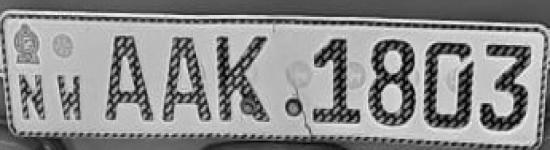0: (422, 34, 477, 136)
1: (309, 32, 364, 130)
3: (478, 39, 533, 136)
8: (366, 34, 418, 130)
A: (156, 29, 214, 126), (100, 30, 156, 126)
K: (214, 30, 279, 126)
N: (16, 68, 50, 122)
W: (53, 70, 87, 123)
